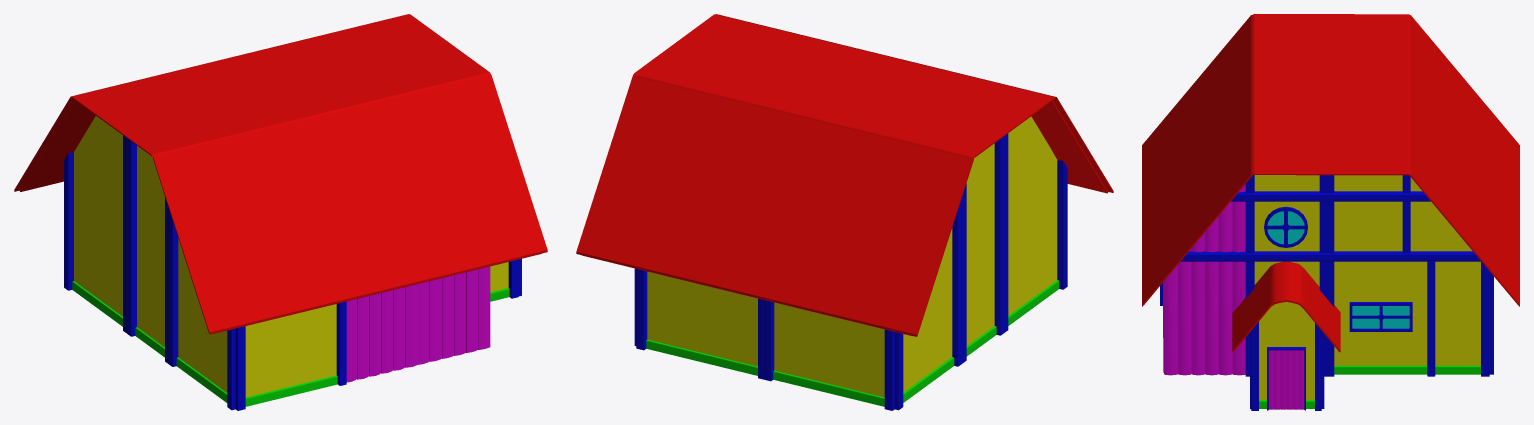
The model's file is House 3 Model.fbx.
The picture shows the model from 3 angles, left to right: view 1: azimuth 30°, elevation 25°; view 2: azimuth 150°, elevation 25°; view 3: azimuth 270°, elevation 25°; orthographic projection. The views are drawn at different scales.
Parts seen in each view (by area): view 1: House_3_combined; view 2: House_3_combined; view 3: House_3_combined.
Part boxes in pixels (x1,y1,x2,y2): House_3_combined: [14, 14, 547, 410]; House_3_combined: [576, 14, 1113, 410]; House_3_combined: [1142, 14, 1519, 410].
Size of the model in its own units: 10.25 by 6.04 by 9.29.
